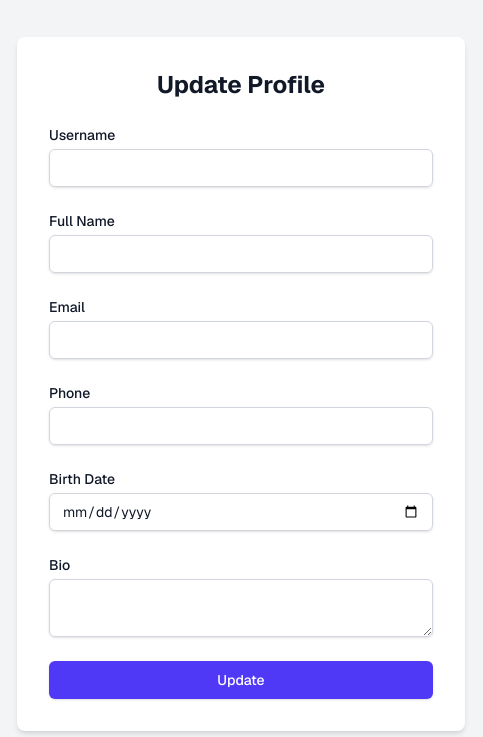
Test: ProfilePage › shows error if phone has leading/trailing spaces
In the field labelled "Phone": (241, 426) [49,407,433,445], type " 1234567890 "
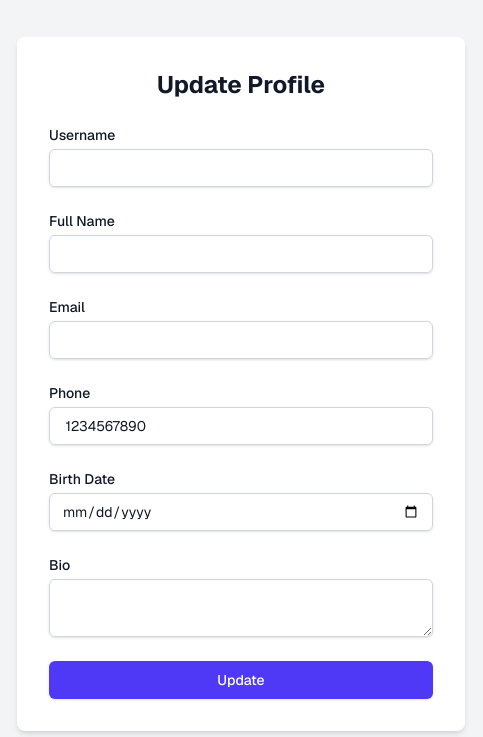
Click the button "Update": (241, 680) [49,661,433,699]
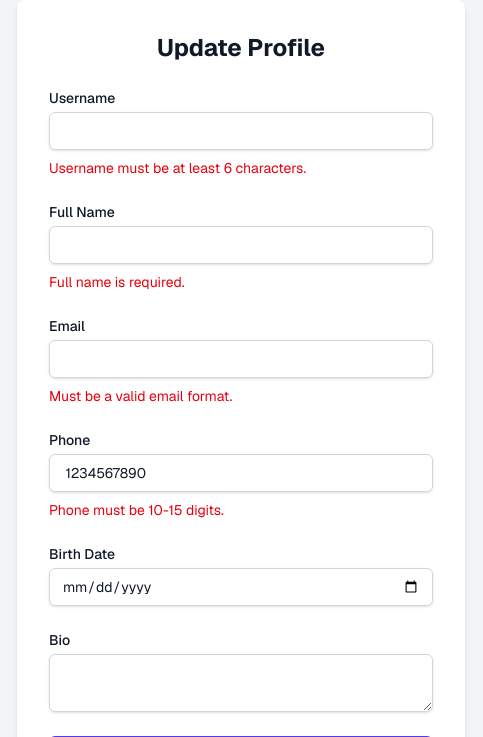
Now the text "Phone must be 10-15 digits." is shown, box [49,501,224,519]
